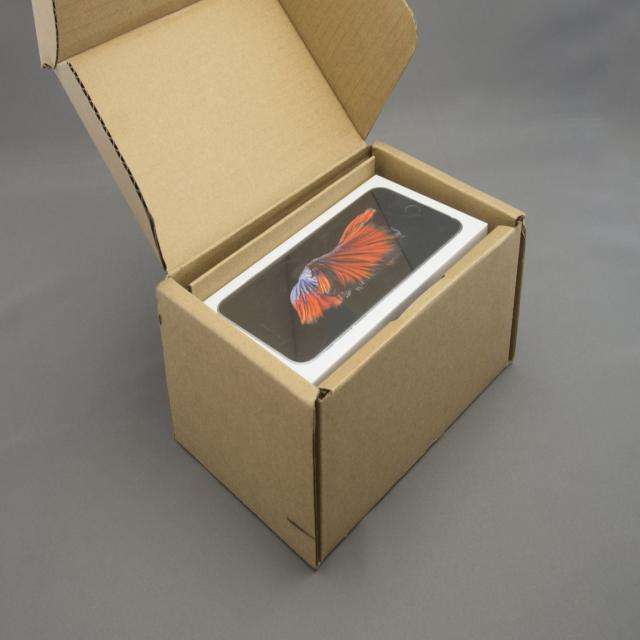Box: (31, 0, 526, 569)
